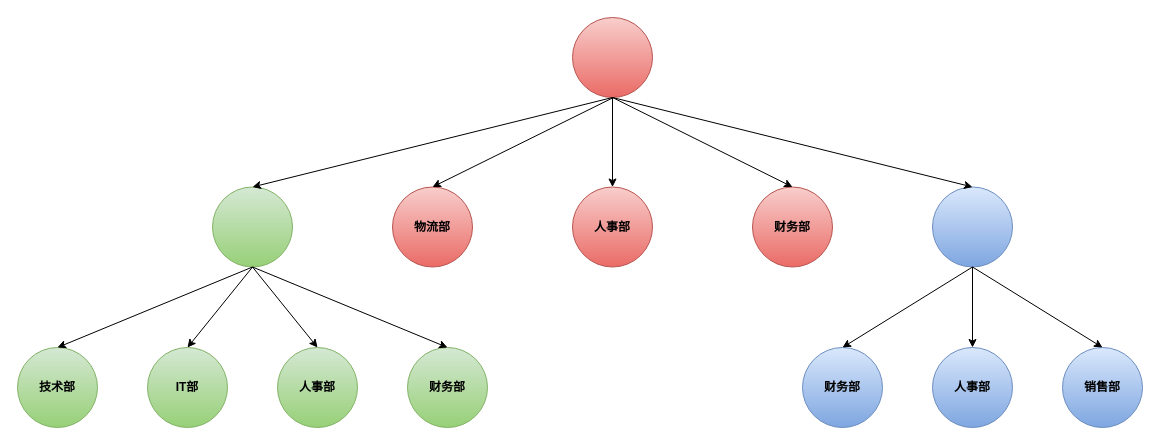
The diagram is 1160 pixels wide and 445 high, and some of its shapes have lost their labels. The shapes that lost their labels are listed below. From the top down, each one's centre as x and y in pixels, then its label:
the point at 612,57: 香港总公司
the point at 252,226: 广州分公司
the point at 972,226: 北京分公司
